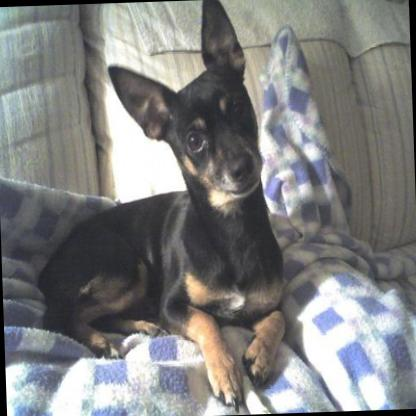miniature_pinscher: (27, 0, 288, 416)
